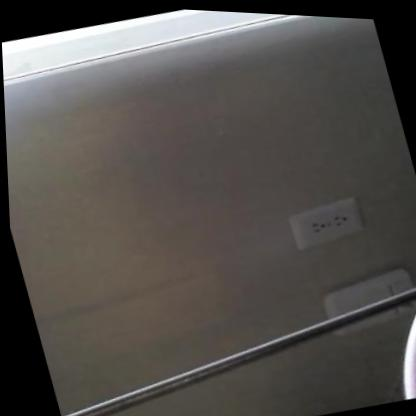OUTLET: (284, 197, 364, 255)
